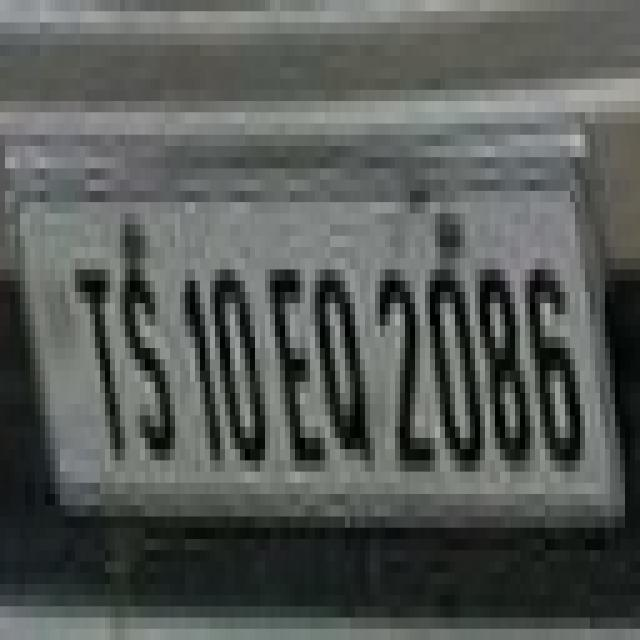0: (422, 250, 494, 493), (208, 254, 280, 479)
1: (177, 259, 230, 482)
6: (518, 255, 592, 491)
8: (474, 253, 544, 490)
E: (265, 253, 336, 487)
Q: (310, 258, 385, 497)
S: (117, 250, 190, 479)
T: (65, 251, 136, 478)
